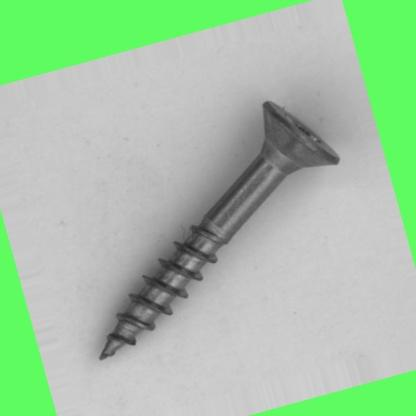metal: (98, 99, 340, 360)
